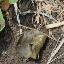Prickly Sida: (0, 0, 64, 42)
